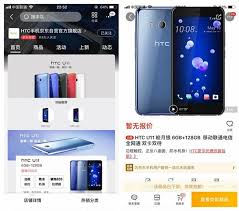htc: (171, 5, 226, 116), (133, 6, 173, 115)
